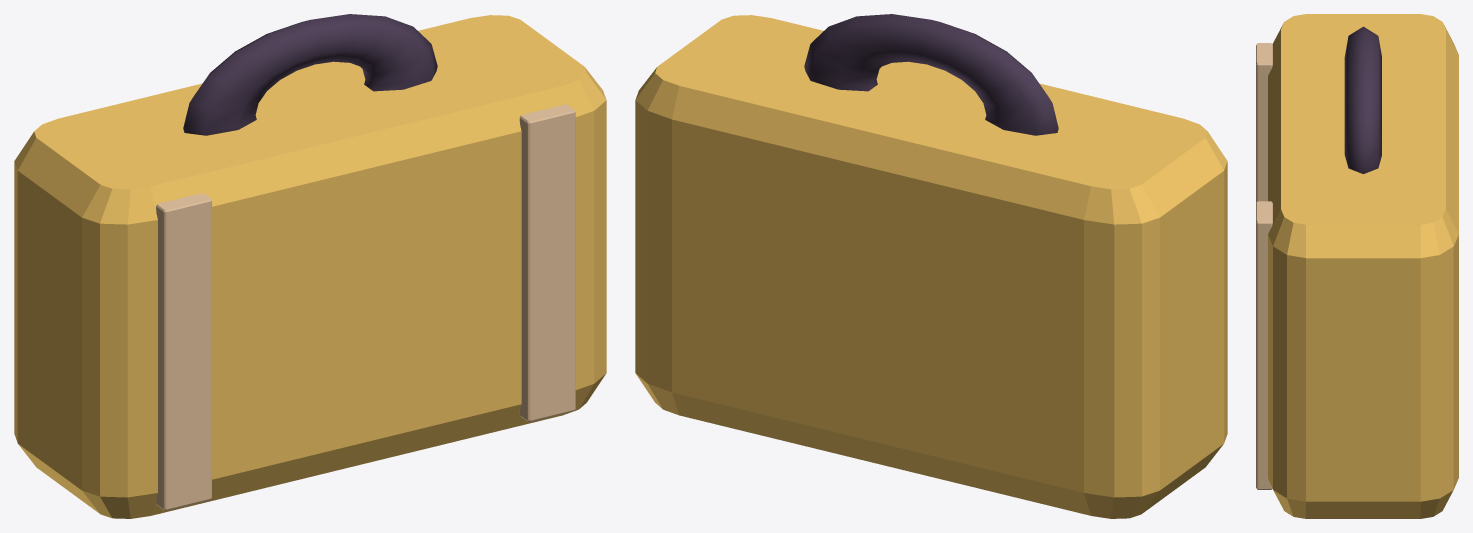
File: briefcase.glb
The picture shows the model from 3 angles, left to right: view 1: azimuth 30°, elevation 25°; view 2: azimuth 150°, elevation 25°; view 3: azimuth 270°, elevation 25°; orthographic projection. The views are drawn at different scales.
Parts seen in each view (by area): view 1: model; view 2: model; view 3: model.
Boxes of the visible parts, box(x1,y1,x2,y2) form: model: box(14, 14, 606, 518); model: box(635, 14, 1227, 518); model: box(1256, 14, 1458, 518).
Size of the model in its own units: 0.45 by 0.34 by 0.17.
